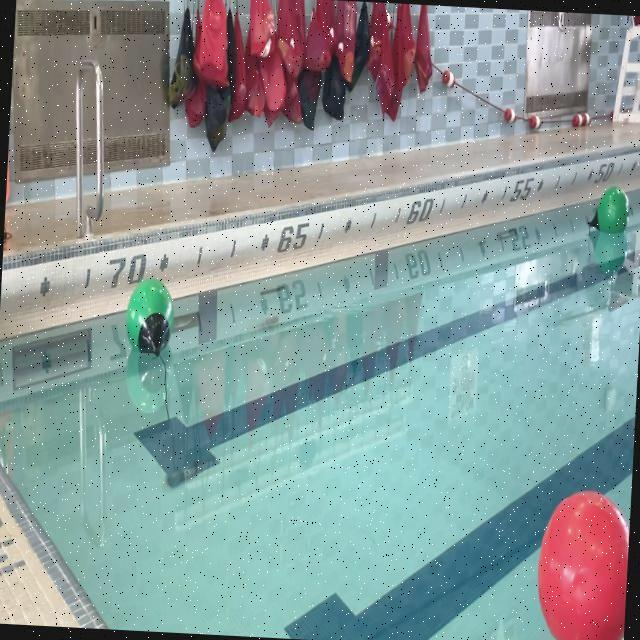buoy: (532, 486, 631, 640), (124, 272, 174, 358), (588, 184, 631, 236)
